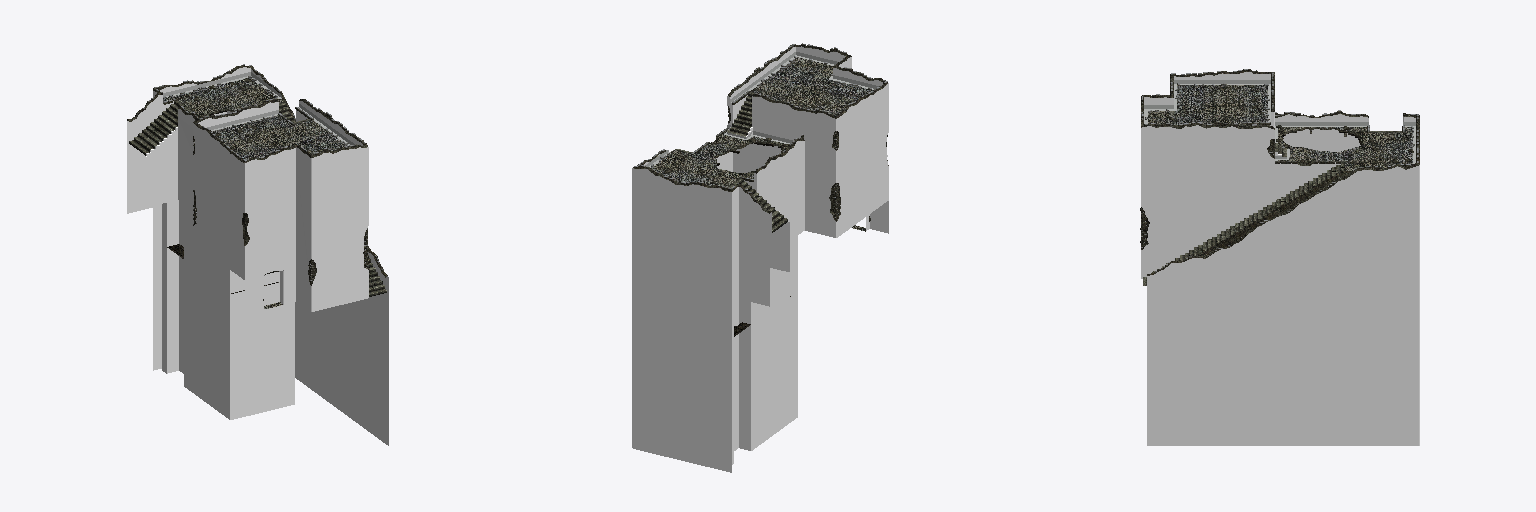
The picture shows the model from 3 angles: view 1: azimuth 30°, elevation 25°; view 2: azimuth 150°, elevation 25°; view 3: azimuth 270°, elevation 25°; orthographic projection.
Visible parts, largest first — view 1: mesh5, mesh6, mesh10, mesh2, mesh11, mesh13; view 2: mesh5, mesh6, mesh2, mesh11, mesh13, mesh10; view 3: mesh5, mesh6, mesh11, mesh10, mesh2, mesh13.
Boxes of the visible parts, x1,y1,x2,y2 form: mesh5: [127, 67, 388, 445]; mesh6: [163, 78, 346, 308]; mesh10: [129, 100, 386, 296]; mesh2: [142, 64, 383, 284]; mesh11: [127, 66, 387, 300]; mesh13: [163, 72, 354, 145]; mesh5: [632, 46, 888, 472]; mesh6: [652, 57, 872, 231]; mesh2: [634, 43, 887, 220]; mesh11: [633, 44, 888, 221]; mesh13: [645, 52, 878, 181]; mesh10: [675, 92, 787, 232]; mesh5: [1141, 72, 1419, 445]; mesh6: [1148, 85, 1412, 170]; mesh11: [1141, 69, 1419, 275]; mesh10: [1143, 124, 1401, 285]; mesh2: [1140, 69, 1419, 273]; mesh13: [1144, 80, 1415, 170].
Size of the model in its own units: 10.39 by 23.7 by 19.02.
15 materials, 9 textured.